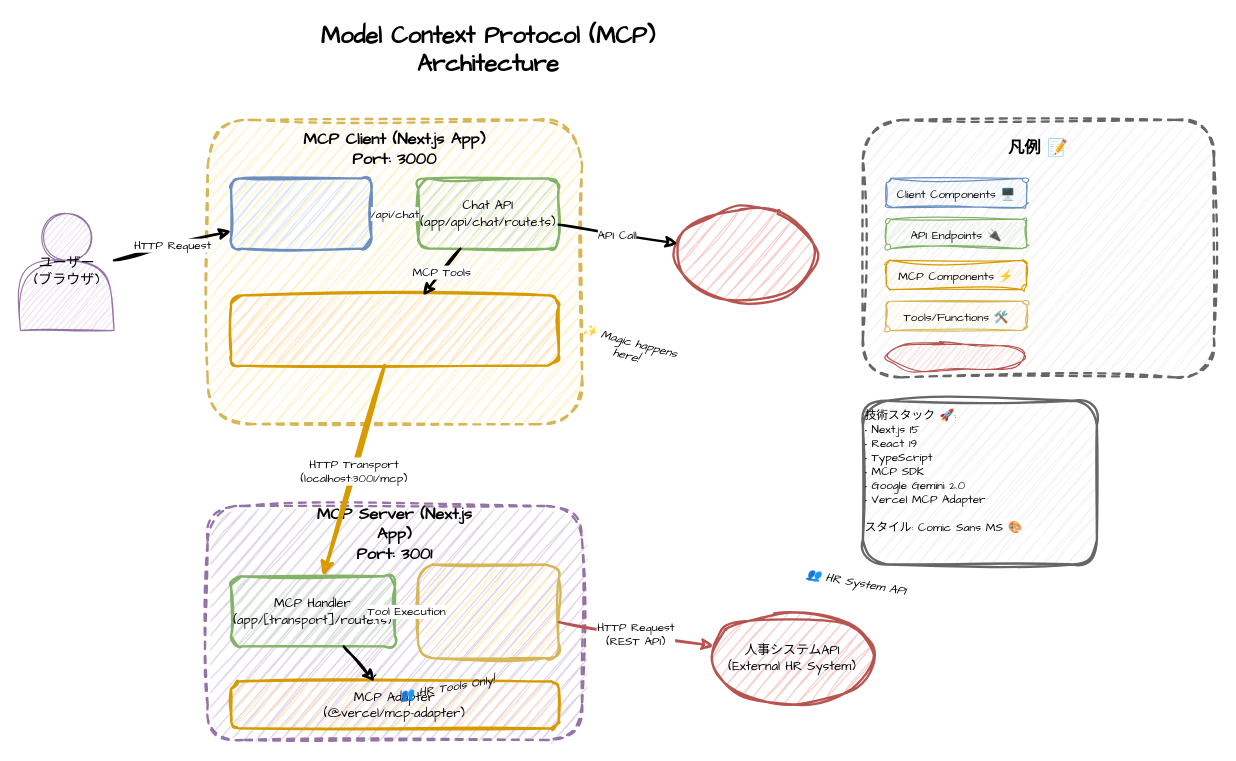
Some shapes in this 1236 by 761 pixel diagram are drawn without their labels. Each missing label, with the centre of its shape:
"AI Model (Google Gemini 2.0)" goes at (x=745, y=254).
"External Services 🌐" goes at (x=956, y=356).
"MCP Client SDK (@modelcontextprotocol/sdk)" goes at (x=394, y=330).
"React Frontend (app/page.tsx)" goes at (x=300, y=213).
"人事システムツール (get_employee, search_employees, get_team_members)" goes at (x=488, y=611).
